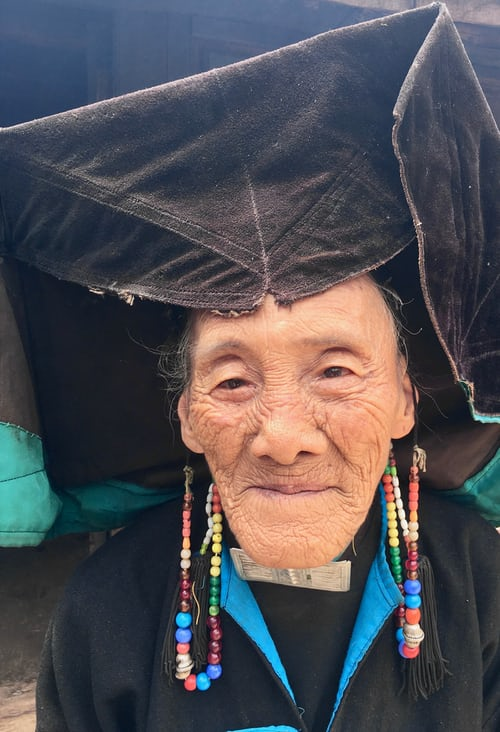WRINKLES: (338, 441, 378, 500), (189, 390, 222, 446), (310, 395, 381, 413), (226, 465, 243, 516), (211, 452, 232, 485), (244, 403, 266, 432), (254, 398, 267, 434)
